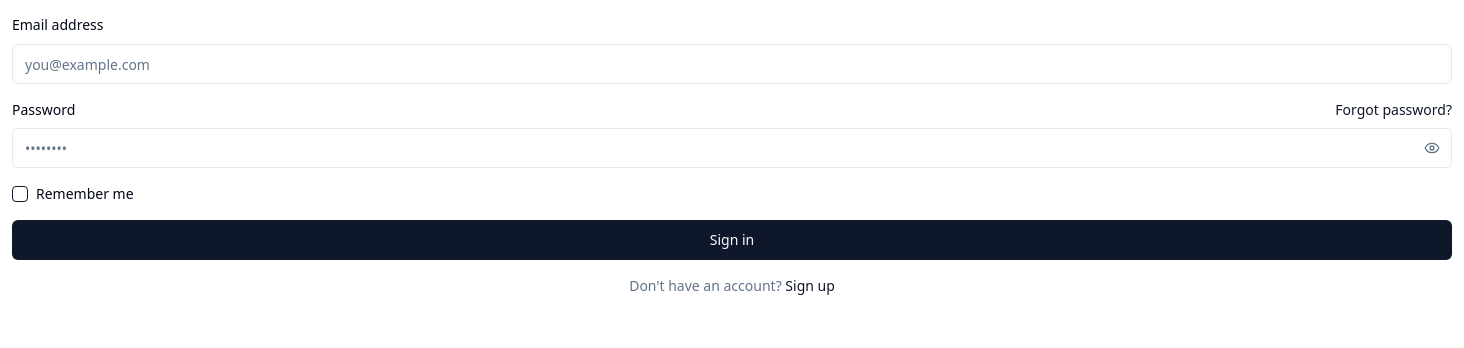
Test: LoginForm › Error Handling › should display error message on login failure
Type "test@example.com" into the field labelled "Email address" at (732, 64), box 12,44 -> 1452,84
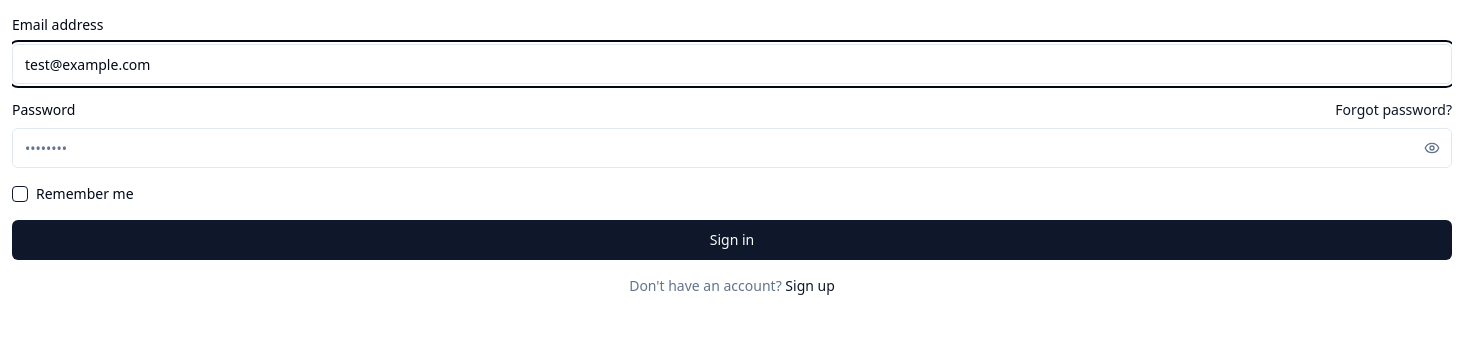
Type "wrongpassword" into the password field labelled "Password" at (732, 148), box 12,128 -> 1452,168
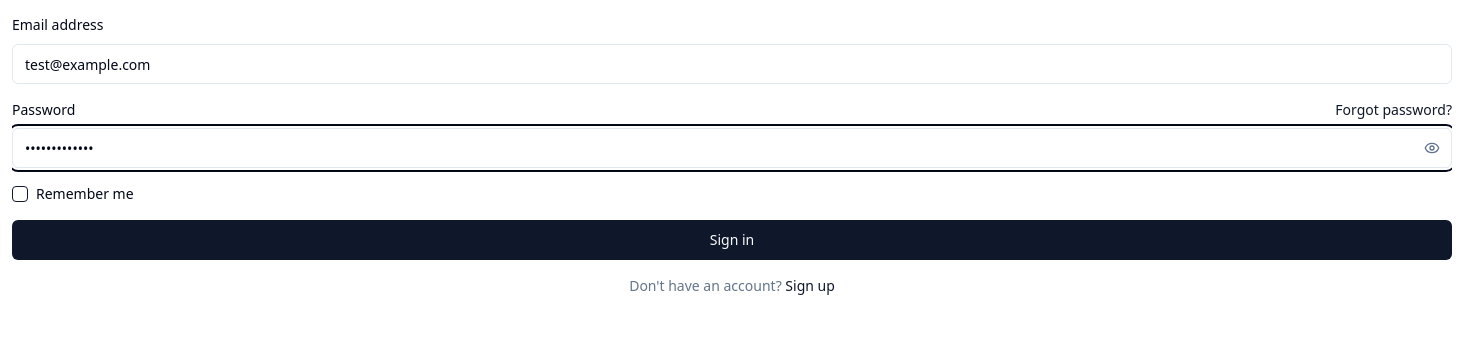
Click the button "Sign in" at (732, 240), box 12,220 -> 1452,260
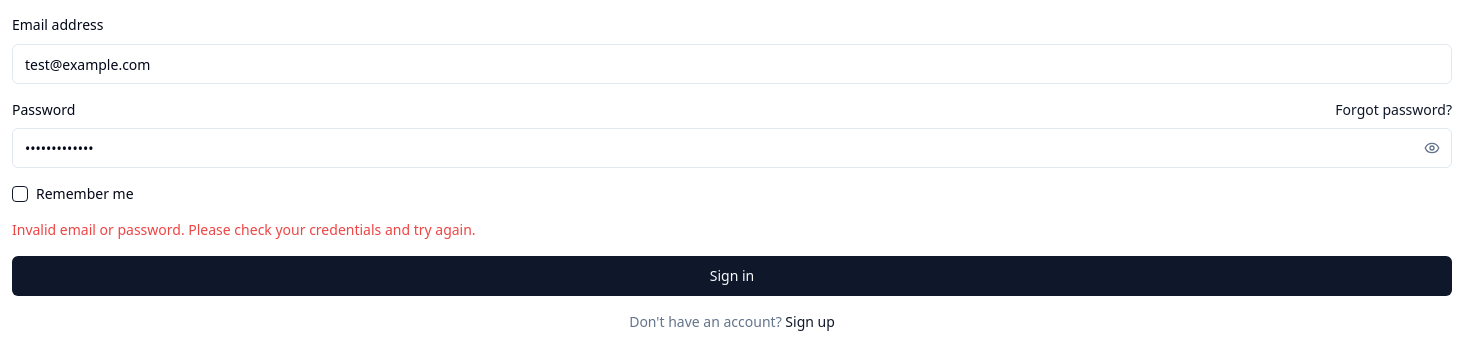
Now the text "Invalid email or password. Please check your credentials and try again." is shown, box 12,220 -> 476,239
